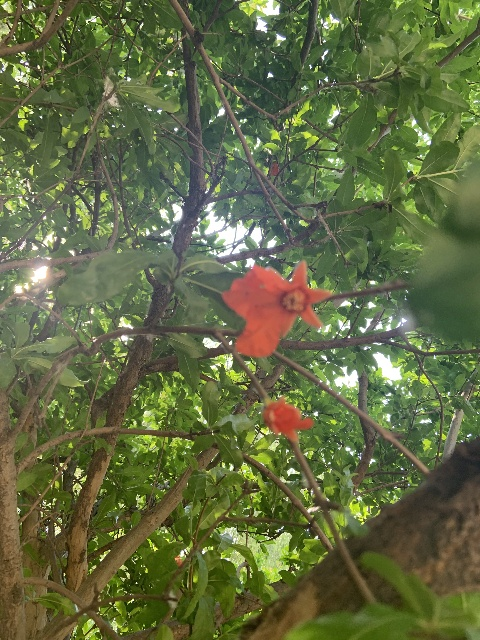flower: (222, 259, 333, 356), (262, 395, 313, 441), (174, 556, 182, 566)
